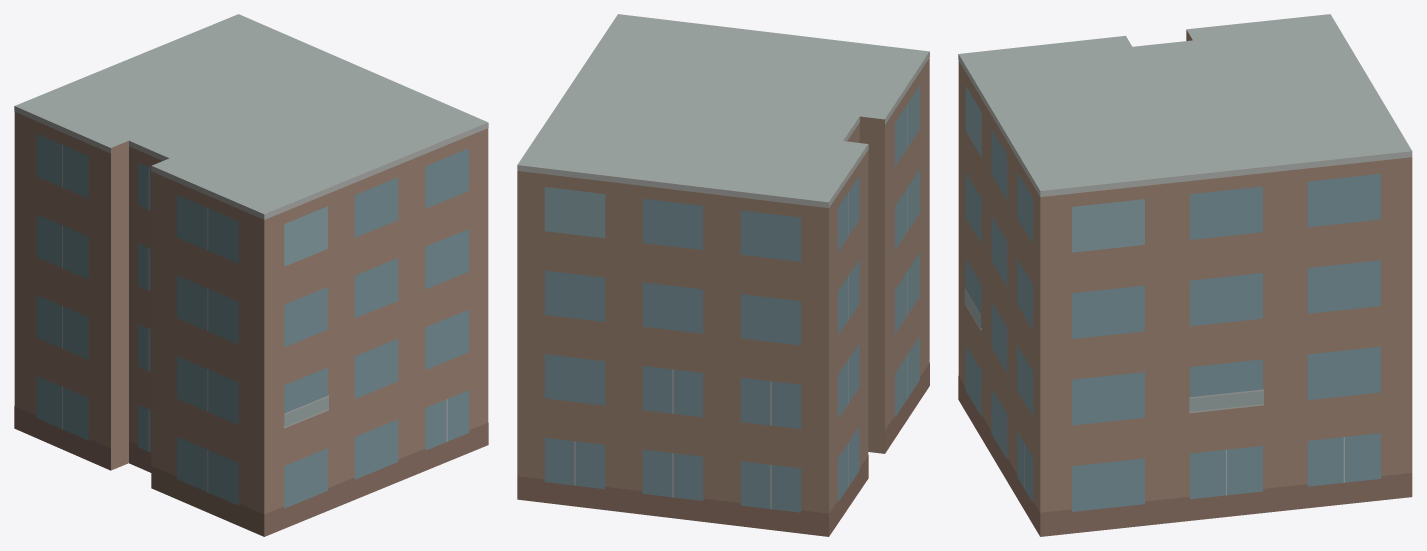
Rendered from survey-upis-32931088.glb.
3 renders of one model, left to right at view 1: azimuth 30°, elevation 25°; view 2: azimuth 150°, elevation 25°; view 3: azimuth 270°, elevation 25°, orthographic. The views are drawn at different scales.
Visible parts, largest first — view 1: survey-upis-32931088.tmp; view 2: survey-upis-32931088.tmp; view 3: survey-upis-32931088.tmp.
Boxes of the visible parts, left/top/right/bottom form: survey-upis-32931088.tmp: left=14, top=14, right=488, bottom=536; survey-upis-32931088.tmp: left=517, top=14, right=929, bottom=536; survey-upis-32931088.tmp: left=958, top=14, right=1412, bottom=536.
Bounding box in the file's own units: 15.52 × 14.12 × 16.81.
